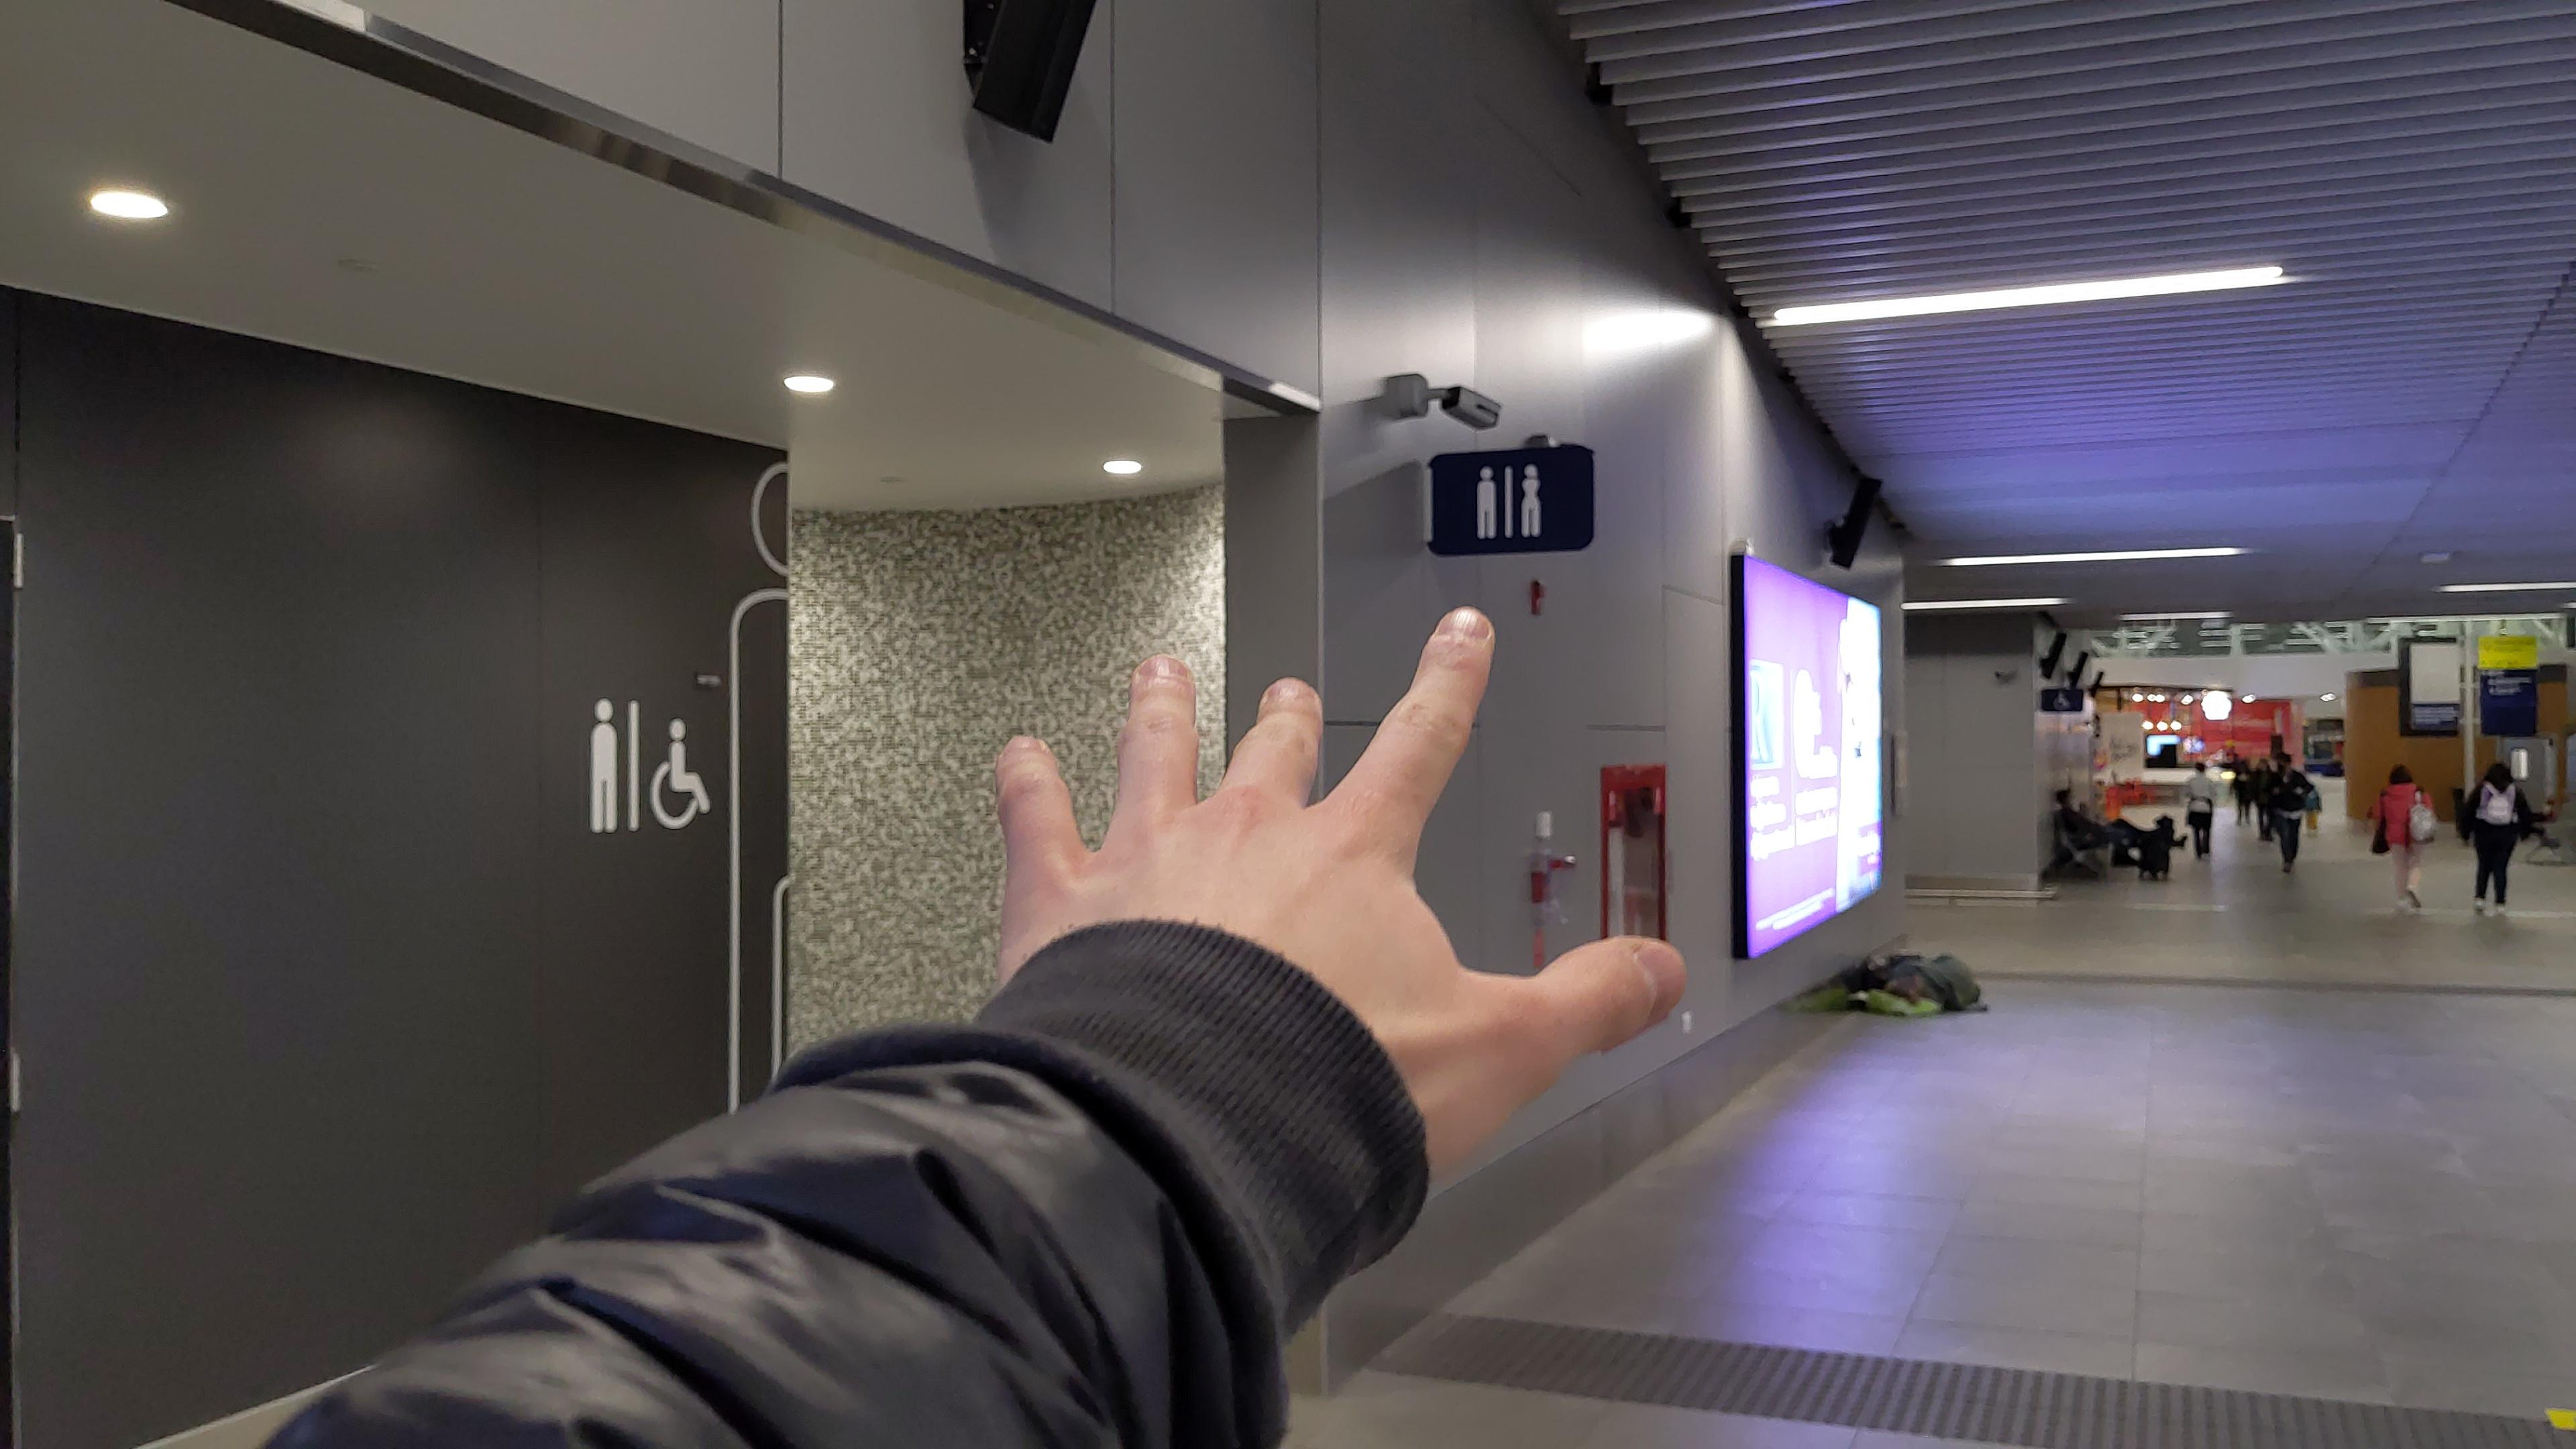bathrooms: (1470, 462, 1546, 541)
handicapped symbol: (648, 715, 713, 832)
